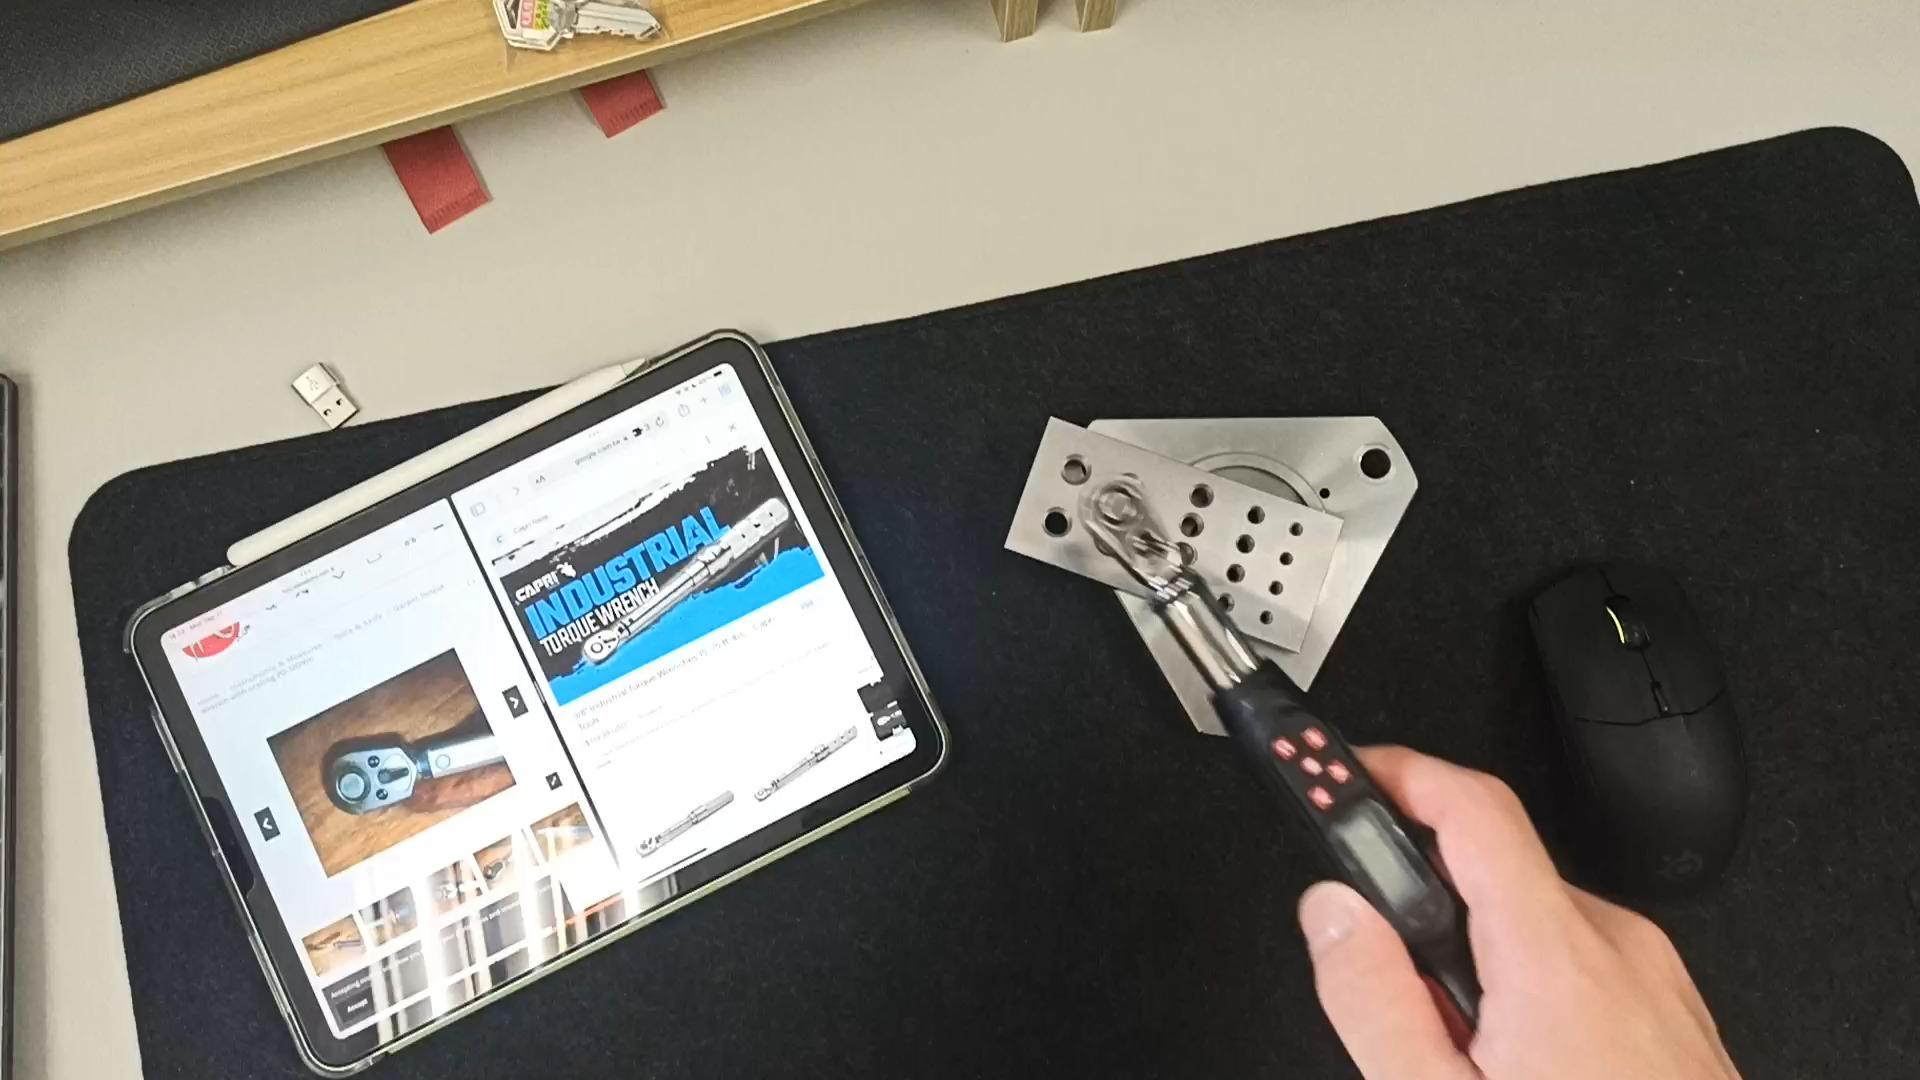Tool: (1082, 472, 1184, 595), (328, 746, 420, 813), (580, 628, 619, 668)
hole: (1342, 444, 1406, 488), (1054, 445, 1097, 491), (1041, 503, 1076, 540), (1183, 483, 1226, 510), (1174, 509, 1215, 536), (1170, 540, 1204, 568), (1236, 500, 1275, 523), (1227, 530, 1263, 553), (1281, 514, 1318, 536), (1219, 557, 1253, 577), (1265, 550, 1298, 569), (1214, 592, 1235, 618), (1256, 578, 1287, 595), (1247, 610, 1278, 627)
